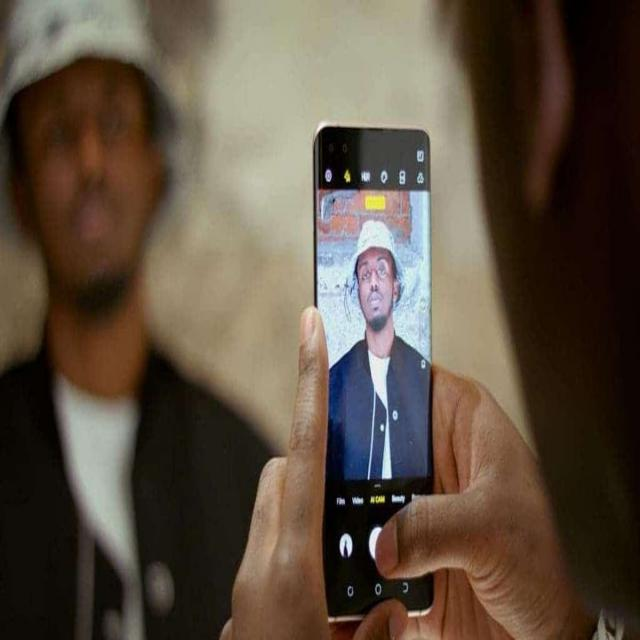device: (309, 117, 442, 625)
